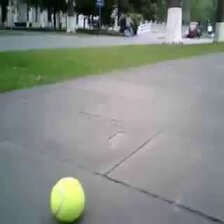tennis: (50, 177, 85, 222)
